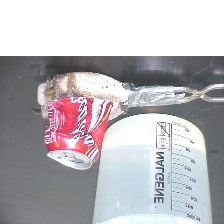can: (40, 92, 114, 172)
